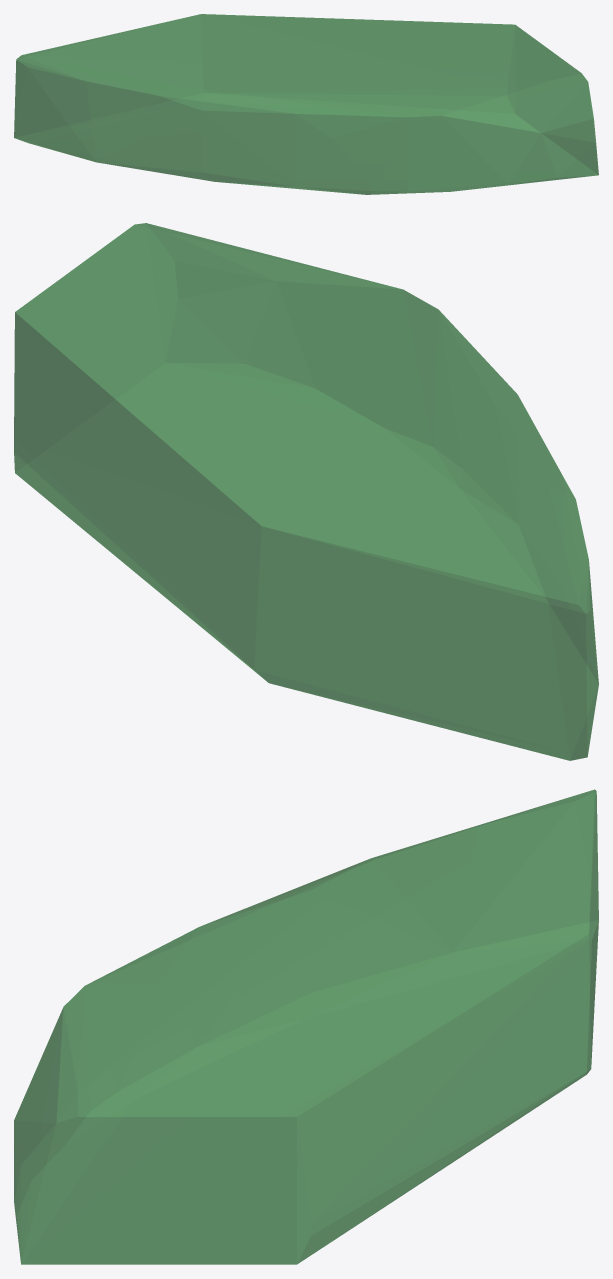
The picture shows the model from 3 angles, top to bottom: view 1: azimuth 30°, elevation 25°; view 2: azimuth 150°, elevation 25°; view 3: azimuth 270°, elevation 25°; orthographic projection. The views are drawn at different scales.
Visible parts, largest first — view 1: Shape_IndexedFaceSet.003_Shape_IndexedFaceSet.5538; view 2: Shape_IndexedFaceSet.003_Shape_IndexedFaceSet.5538; view 3: Shape_IndexedFaceSet.003_Shape_IndexedFaceSet.5538.
Part boxes in pixels (x1,y1,x2,y2): Shape_IndexedFaceSet.003_Shape_IndexedFaceSet.5538: (14,14,598,194); Shape_IndexedFaceSet.003_Shape_IndexedFaceSet.5538: (14,223,598,760); Shape_IndexedFaceSet.003_Shape_IndexedFaceSet.5538: (14,789,598,1264).
Size of the model in its own units: 0.4219 by 0.0898 by 0.3163.
